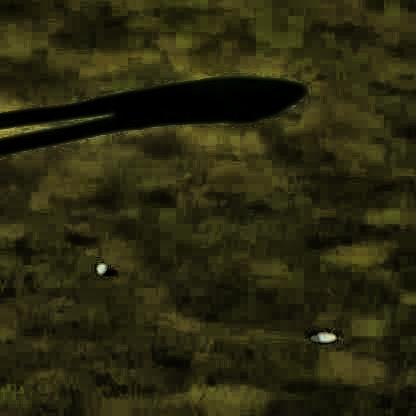golfball: (93, 259, 104, 272)
